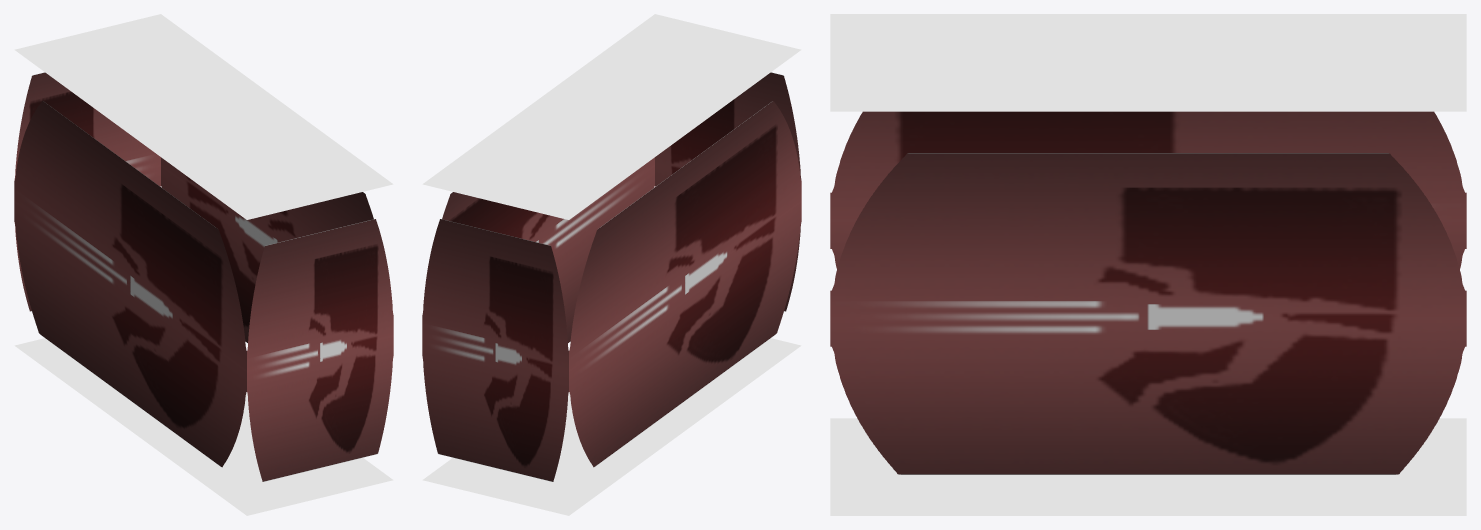
The model's file is DamageBoost.FBX.
The picture shows the model from 3 angles, left to right: view 1: azimuth 30°, elevation 25°; view 2: azimuth 150°, elevation 25°; view 3: azimuth 270°, elevation 25°; orthographic projection. The views are drawn at different scales.
Parts seen in each view (by area): view 1: Box001; view 2: Box001; view 3: Box001.
Boxes of the visible parts, x1,y1,x2,y2 form: Box001: (14, 14, 393, 515); Box001: (422, 14, 801, 515); Box001: (830, 14, 1466, 515).
Size of the model in its own units: 14.55 by 28.05 by 40.
